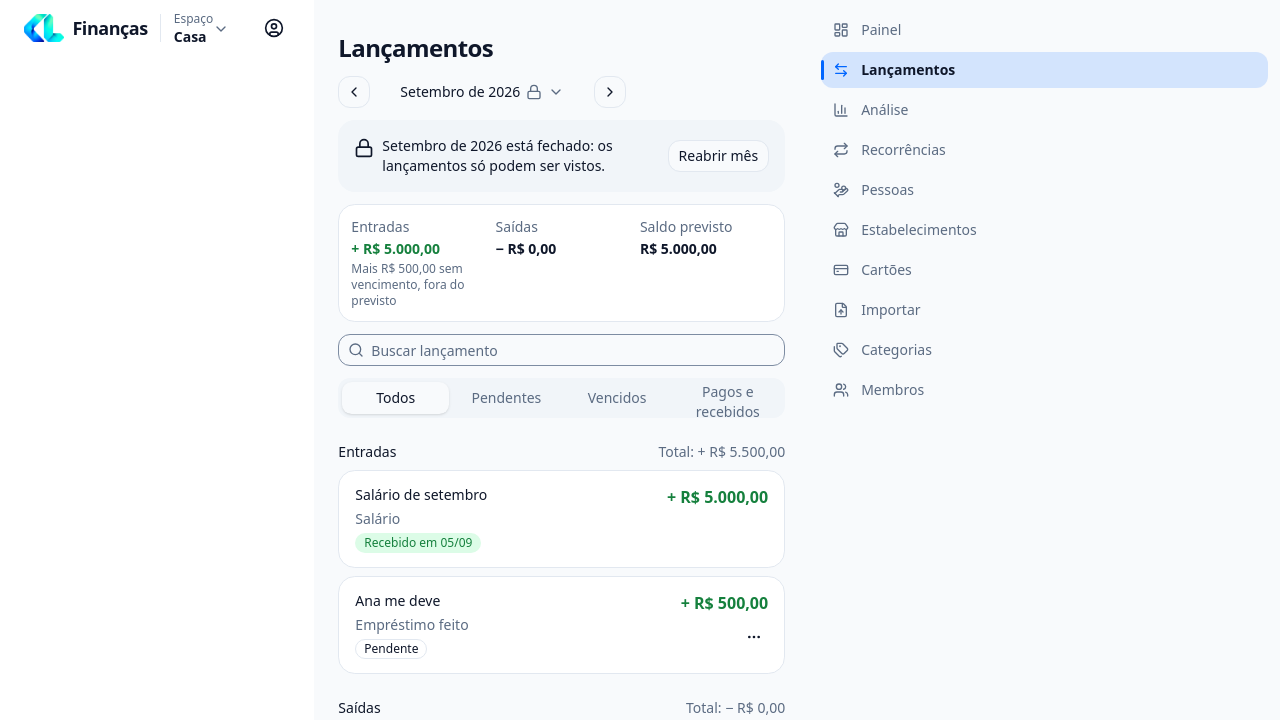
Test: month closing › keeps the transactions of a closed month to be seen, but a part of a loan with no due date
Expected: the text "setembro de 2026 está fechado: os lançamentos só podem ser vistos." is shown, x1=382 y1=136 x2=613 y2=175
Expected: the text "Salário de setembro" is shown, x1=355 y1=485 x2=487 y2=505
Click the button named "Ações de Ana me deve".
click(754, 637)  # box x1=740 y1=623 x2=768 y2=651
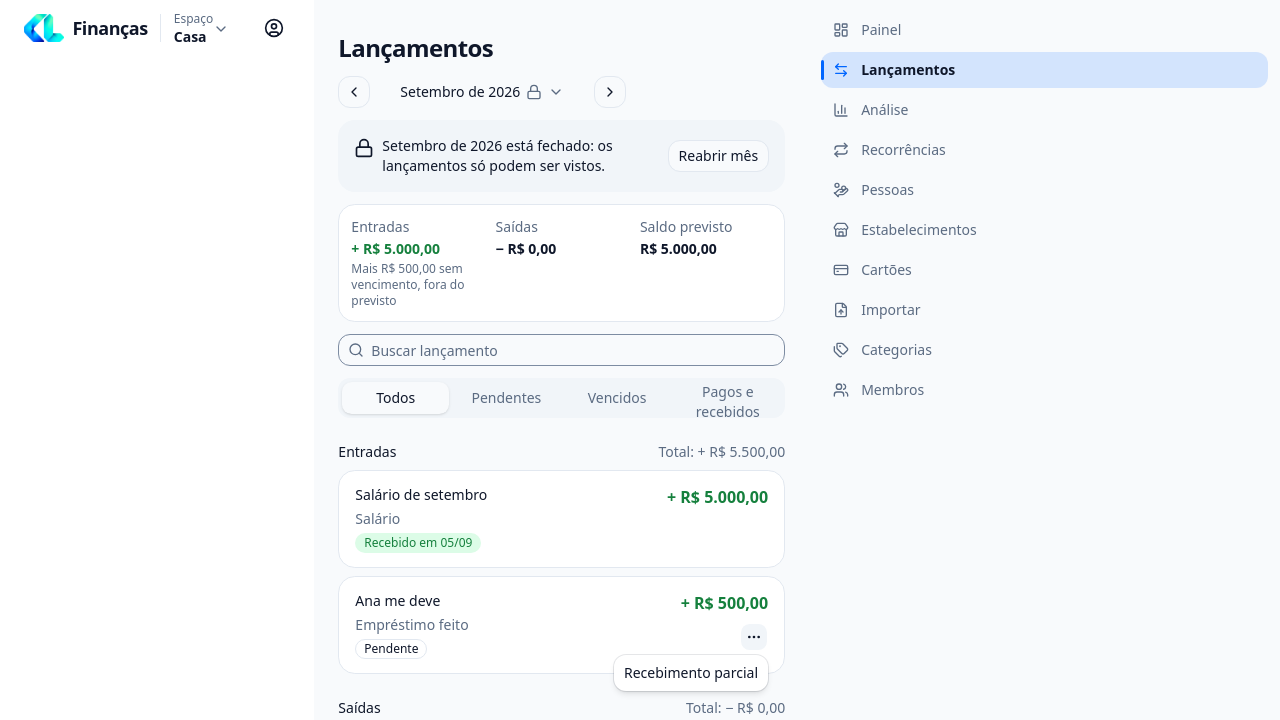
Result: the menu items read "Recebimento parcial", in this order at x1=618 y1=659 x2=764 y2=687
